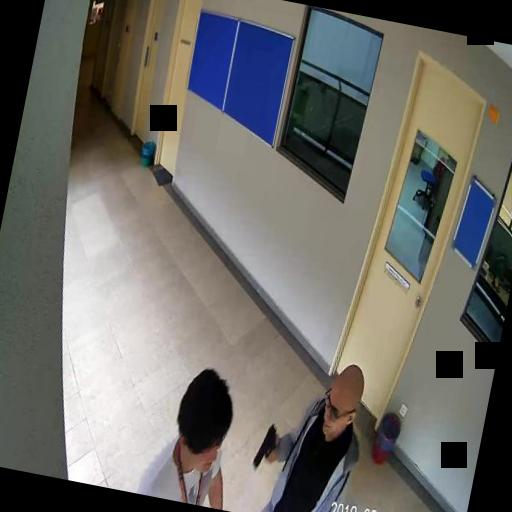Handgun: (252, 421, 280, 472)
